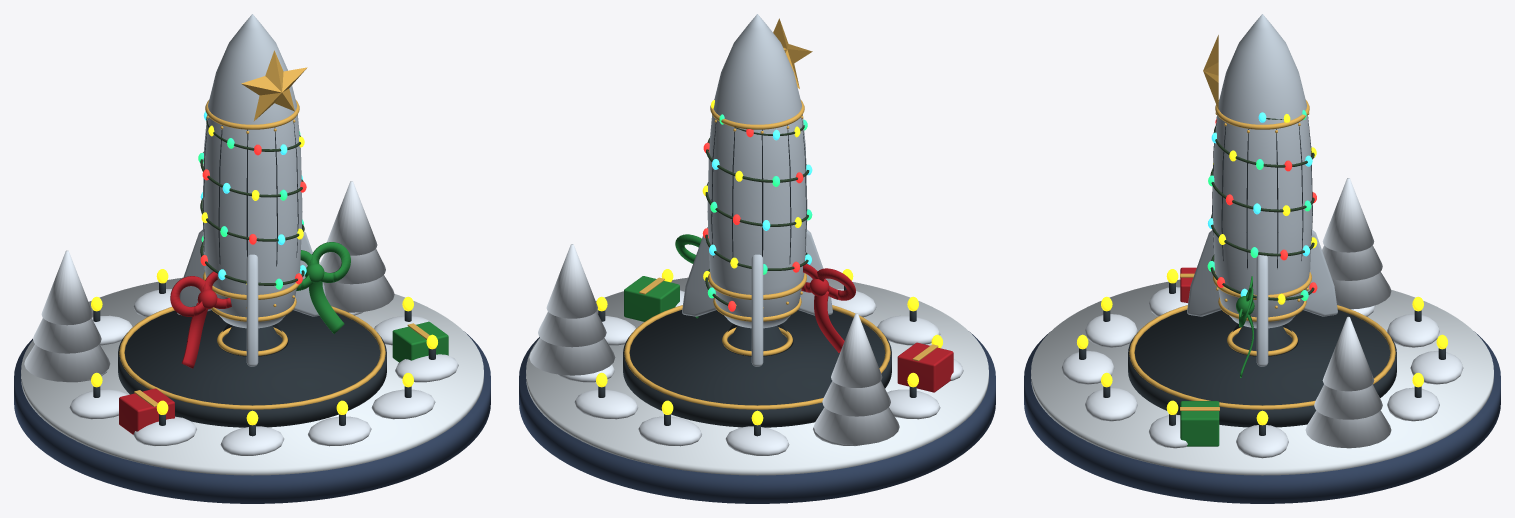
The model's file is xmasr-world.glb.
The picture shows the model from 3 angles, left to right: view 1: azimuth 30°, elevation 25°; view 2: azimuth 150°, elevation 25°; view 3: azimuth 270°, elevation 25°; orthographic projection.
Parts seen in each view (by area): view 1: Ground surface, Ogive rocket hull, Raised launch pad, World plinth, Launch pad brass perimeter, Snow covered fir, Snow covered fir.002, Snow covered fir.005, Snow covered fir.003, Snow covered fir.001, Raised five point star, Gift box (+22 smaller); view 2: Ogive rocket hull, Ground surface, Raised launch pad, World plinth, Snow covered fir, Snow covered fir.003, Snow covered fir.005, Snow covered fir.002, Launch pad brass perimeter, Gift box, Snow covered fir.004, Snow covered fir.001 (+19 smaller); view 3: Ground surface, Ogive rocket hull, Raised launch pad, World plinth, Snow covered fir.003, Snow covered fir.002, Snow covered fir.005, Launch pad brass perimeter, Snow covered fir.004, Gift box.001, Swept alloy fin.002, Snow covered fir.001 (+17 smaller).
Boxes of the visible parts, x1,y1,x2,y2 form: Ground surface: [21, 277, 483, 475]; Ogive rocket hull: [202, 14, 302, 328]; Raised launch pad: [118, 310, 386, 427]; World plinth: [14, 331, 490, 503]; Launch pad brass perimeter: [119, 306, 385, 409]; Snow covered fir: [24, 344, 110, 381]; Snow covered fir.002: [41, 250, 92, 325]; Snow covered fir.005: [326, 181, 377, 255]; Snow covered fir.003: [323, 275, 394, 312]; Snow covered fir.001: [33, 318, 101, 353]; Raised five point star: [241, 50, 307, 121]; Gift box: [119, 388, 174, 434]; Ogive rocket hull: [707, 14, 807, 328]; Ground surface: [526, 277, 988, 475]; Raised launch pad: [623, 310, 891, 427]; World plinth: [519, 331, 995, 503]; Snow covered fir: [813, 407, 899, 444]; Snow covered fir.003: [529, 337, 615, 375]; Snow covered fir.005: [546, 244, 597, 318]; Snow covered fir.002: [831, 313, 882, 387]; Launch pad brass perimeter: [624, 305, 890, 409]; Gift box: [897, 342, 953, 392]; Snow covered fir.004: [538, 311, 606, 347]; Snow covered fir.001: [822, 381, 890, 416]; Ground surface: [1031, 279, 1493, 475]; Ogive rocket hull: [1212, 14, 1312, 328]; Raised launch pad: [1128, 310, 1396, 427]; World plinth: [1024, 331, 1500, 503]; Snow covered fir.003: [1305, 410, 1391, 448]; Snow covered fir.002: [1322, 178, 1374, 252]; Snow covered fir.005: [1322, 316, 1374, 391]; Launch pad brass perimeter: [1129, 305, 1395, 409]; Snow covered fir.004: [1314, 384, 1382, 419]; Gift box.001: [1180, 401, 1219, 446]; Swept alloy fin.002: [1187, 230, 1221, 316]; Snow covered fir.001: [1322, 245, 1382, 280].
Bounding box in the file's own units: 6.1 × 5.49 × 6.1.
